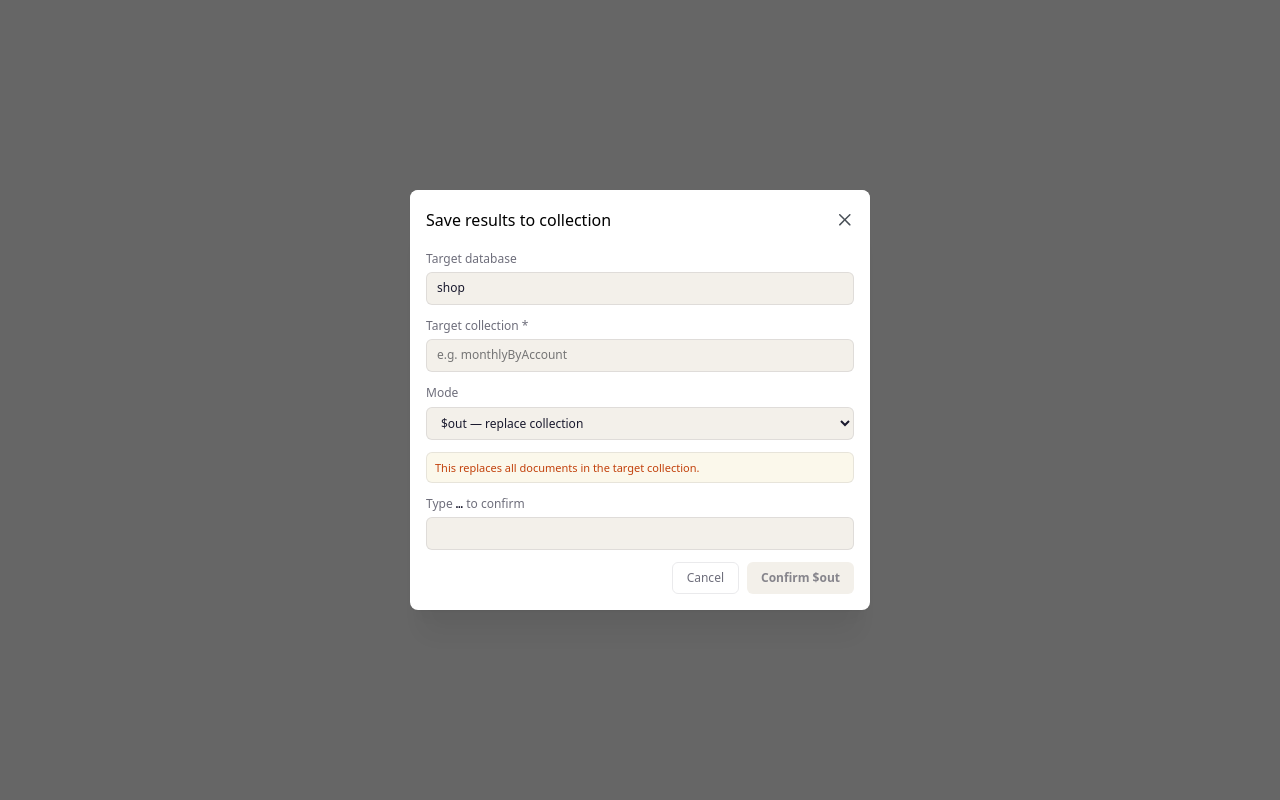
Test case: SaveAsCollectionModal — dialog shell + guard (X15 T6) › submit › Cancel does not write, even with the confirmation fully typed
In the field labelled "Target collection *": point(640, 356) left=426, top=339, right=854, bottom=372, type "monthlyByAccount"
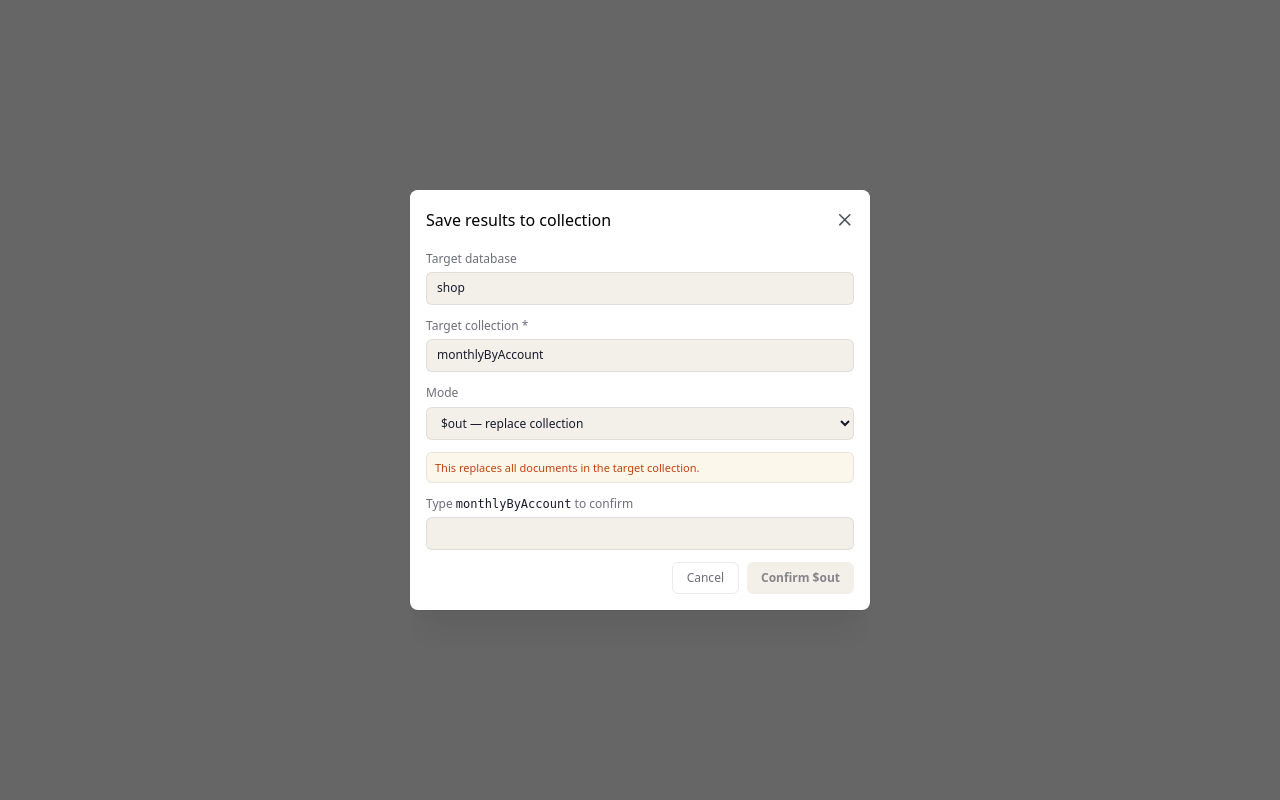
In the field labelled "Type monthlyByAccount to confirm": point(640, 534) left=426, top=517, right=854, bottom=550, type "monthlyByAccount"
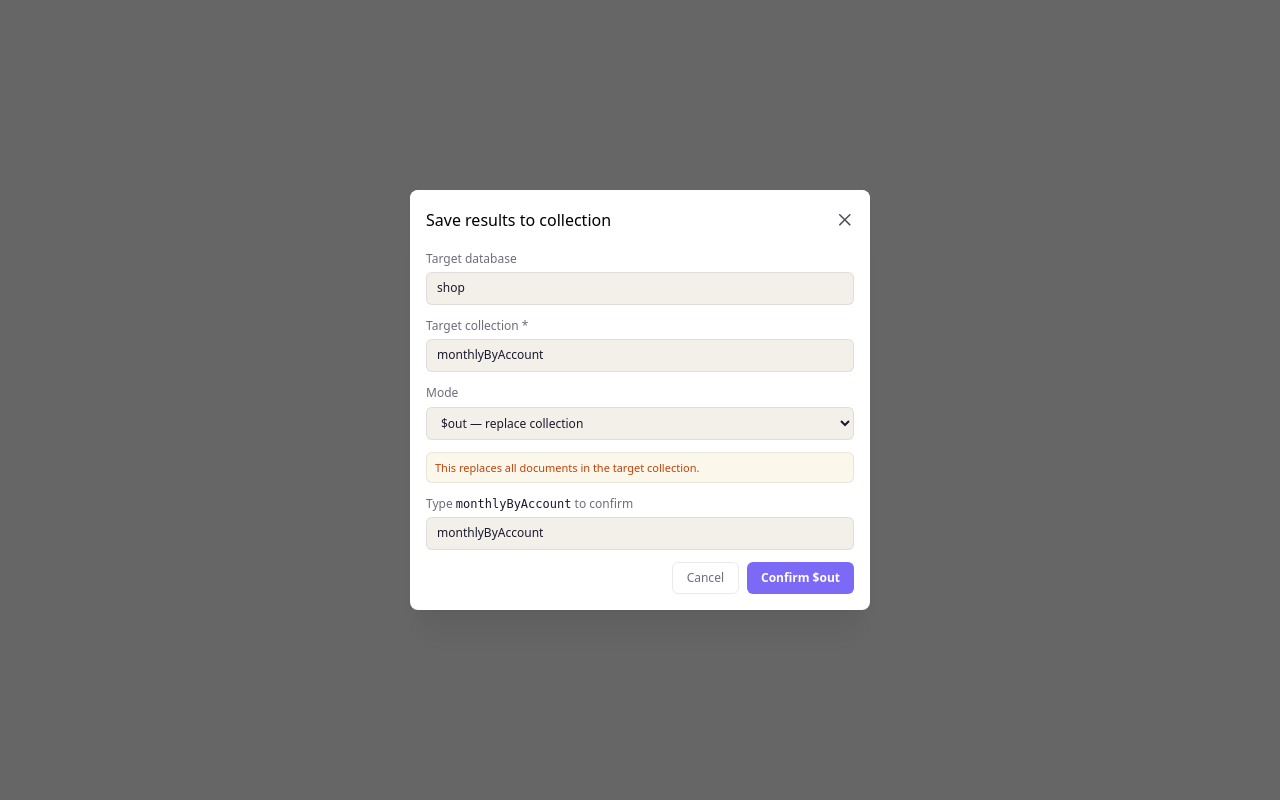
Check: the button "Confirm $out" is enabled, box left=747, top=562, right=854, bottom=594
Click the button "Cancel": point(705, 578) left=672, top=562, right=739, bottom=594
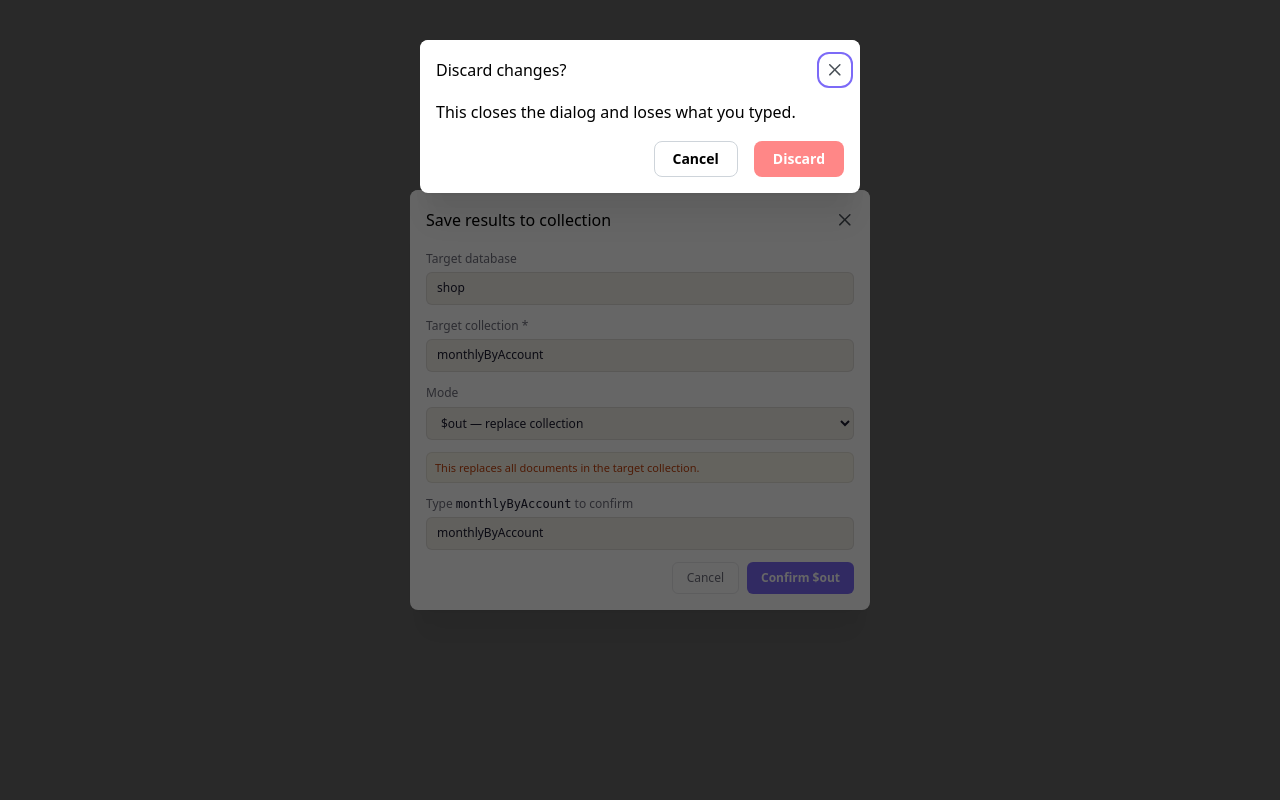
Check: the dialog "Discard changes?" is shown, box left=420, top=40, right=860, bottom=193
